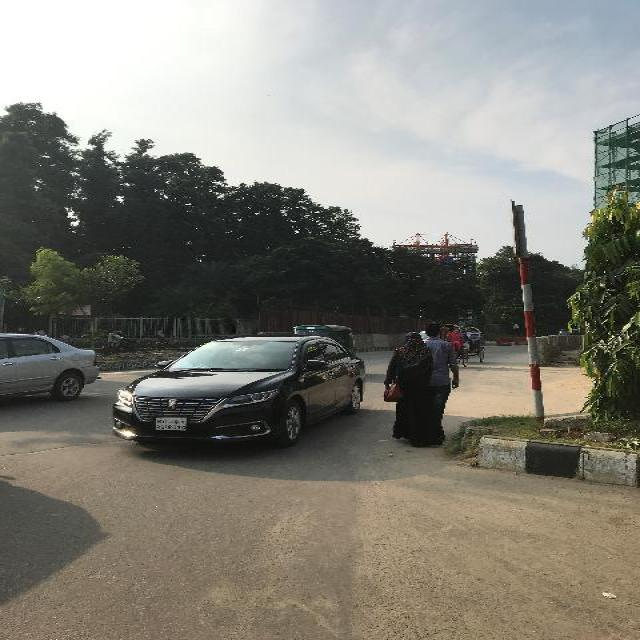car: (105, 351, 370, 447), (0, 332, 100, 404)
rickshaw: (451, 324, 469, 368), (154, 328, 190, 349), (468, 326, 484, 362)
three wheelers -CNG-: (323, 324, 357, 352)
